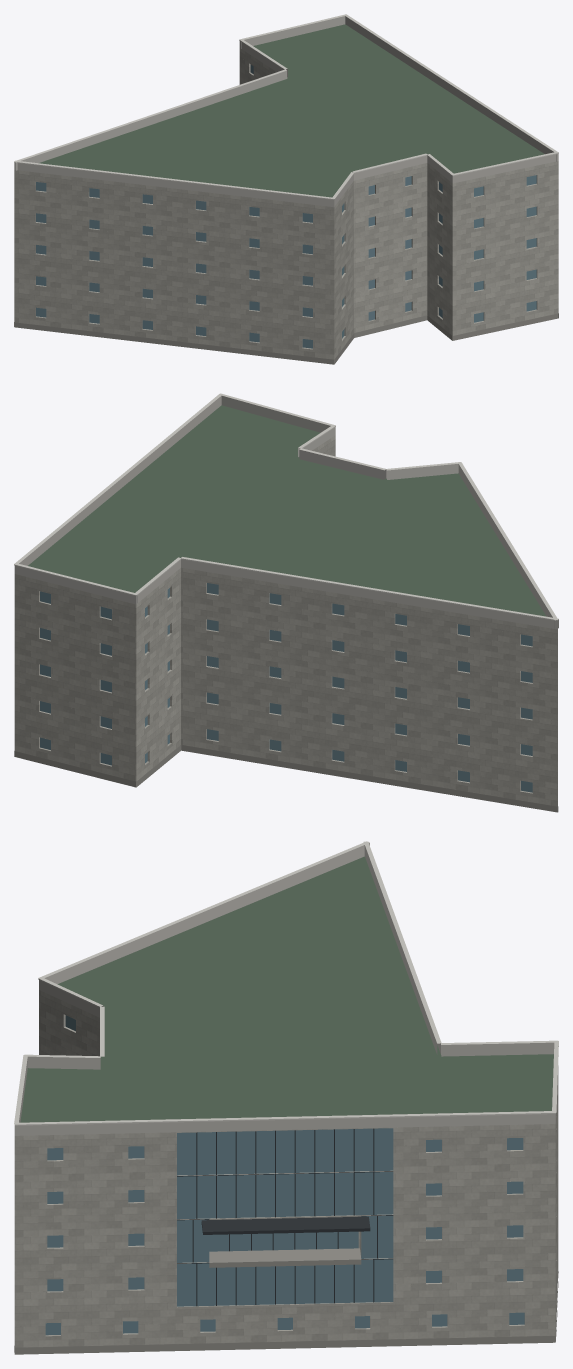
3 views of the same model, one above another, from view 1: azimuth 30°, elevation 25°; view 2: azimuth 150°, elevation 25°; view 3: azimuth 270°, elevation 25° (orthographic). The views are drawn at different scales.
Parts seen in each view (by area): view 1: studentCulture__wall, studentCulture__roof, studentCulture__parapet, studentCulture__glass, studentCulture__trim, studentCulture__base; view 2: studentCulture__wall, studentCulture__roof, studentCulture__parapet, studentCulture__glass, studentCulture__trim, studentCulture__base; view 3: studentCulture__wall, studentCulture__roof, studentCulture__glass, studentCulture__parapet, studentCulture__base, studentCulture__trim, studentCulture__frame, studentCulture__canopy.
Part boxes in pixels (left/top/right/bottom): studentCulture__wall: left=14, top=48, right=558, bottom=364; studentCulture__roof: left=39, top=24, right=544, bottom=340; studentCulture__parapet: left=14, top=16, right=558, bottom=207; studentCulture__glass: left=36, top=65, right=536, bottom=348; studentCulture__trim: left=14, top=14, right=558, bottom=199; studentCulture__base: left=14, top=313, right=558, bottom=364; studentCulture__wall: left=14, top=435, right=557, bottom=811; studentCulture__roof: left=28, top=405, right=546, bottom=787; studentCulture__parapet: left=14, top=395, right=558, bottom=629; studentCulture__glass: left=40, top=583, right=532, bottom=792; studentCulture__trim: left=14, top=393, right=558, bottom=620; studentCulture__base: left=14, top=745, right=558, bottom=812; studentCulture__wall: left=14, top=990, right=558, bottom=1347; studentCulture__roof: left=20, top=856, right=553, bottom=1354; studentCulture__glass: left=45, top=1015, right=524, bottom=1335; studentCulture__parapet: left=14, top=843, right=555, bottom=1135; studentCulture__base: left=14, top=1248, right=558, bottom=1354; studentCulture__trim: left=14, top=841, right=558, bottom=1125; studentCulture__frame: left=177, top=1128, right=393, bottom=1306; studentCulture__canopy: left=201, top=1216, right=370, bottom=1234.
Bounding box in the file's own units: 54.22 × 20.02 × 42.95.
9 materials, 1 textured.
